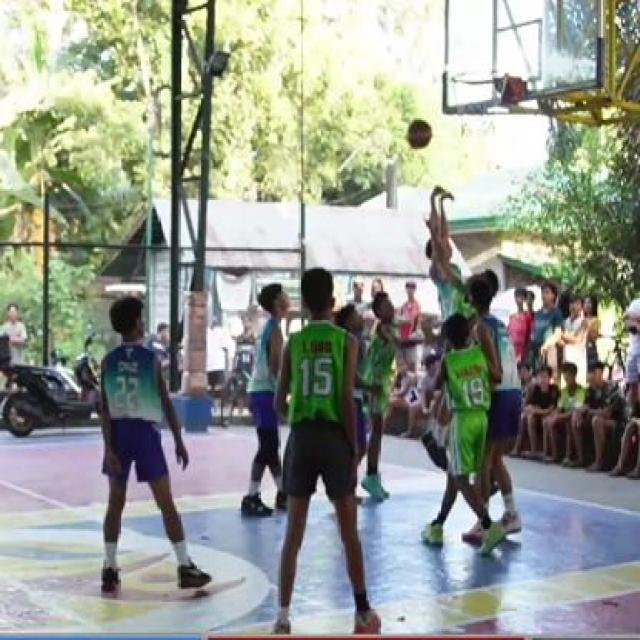Ball: (400, 113, 440, 160)
